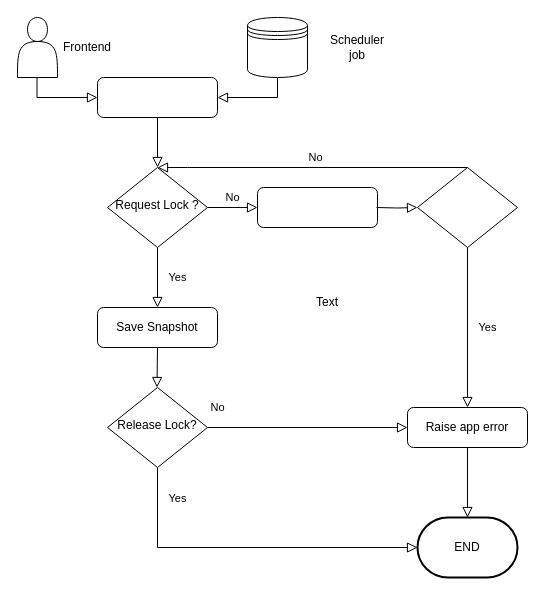
Image size: 545x596. Some labels were removed from this diagram. Each missing label, with the box of its shape:
Take Snapshot: (96, 76, 218, 118)
Timeout?: (416, 166, 518, 248)
Try again: (256, 186, 378, 228)
